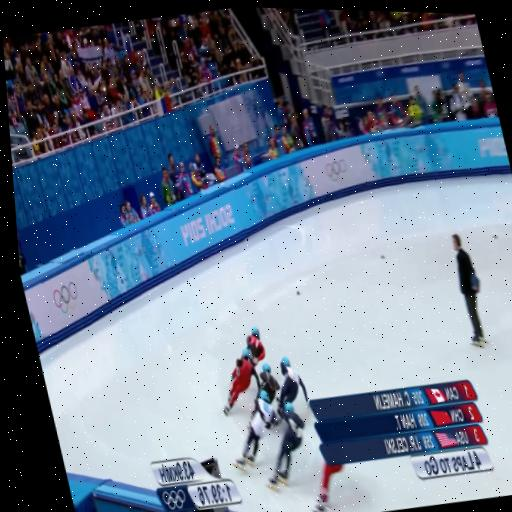Skater: (233, 391, 274, 469), (268, 403, 303, 490), (223, 348, 259, 415), (277, 357, 307, 415), (312, 464, 343, 511), (258, 364, 279, 403), (246, 327, 265, 366)
